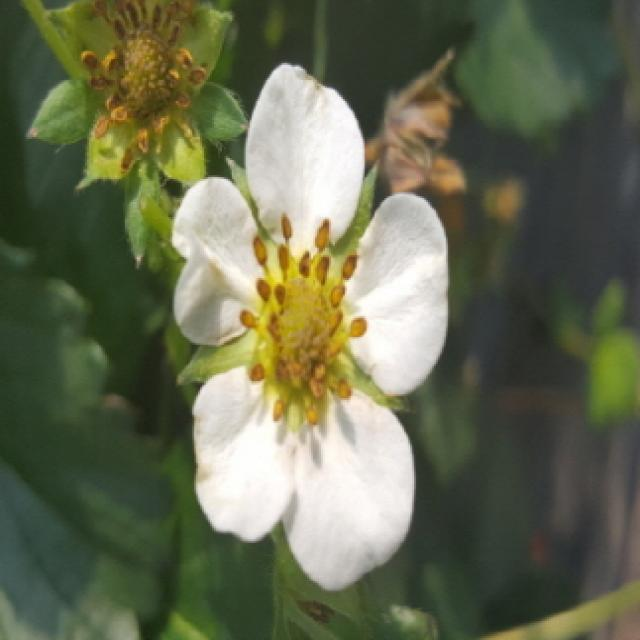Blossom Blight: (234, 210, 373, 429), (77, 0, 211, 179)
